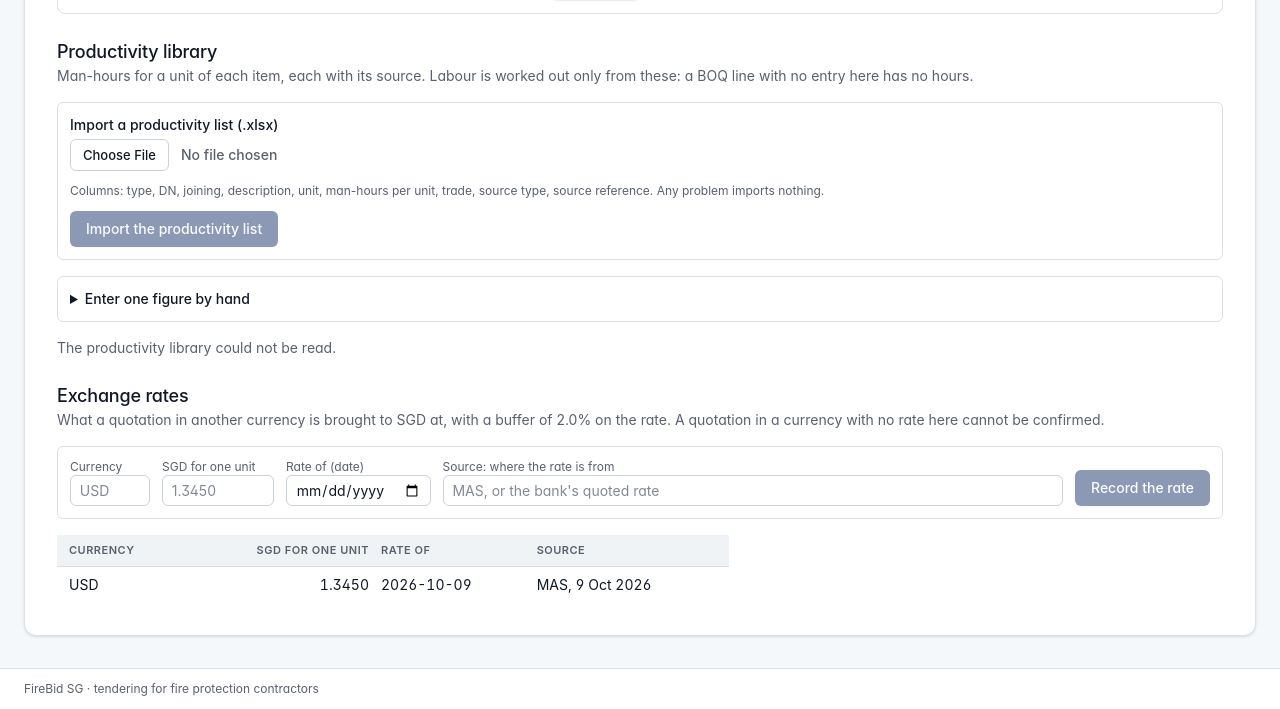
Test: exchange rates › lists each rate with its source and date, and records one with both
(page scrolled)
Expected: the text "USD" shows "MAS, 9 Oct 2026", [537,576,652,593]
Expected: the element "Exchange rates" shows "a buffer of 2.0% on the rate", [443,411,667,428]
Step 1. Type "eur" into the field labelled "Currency" → (110, 491), box [70,475,150,506]
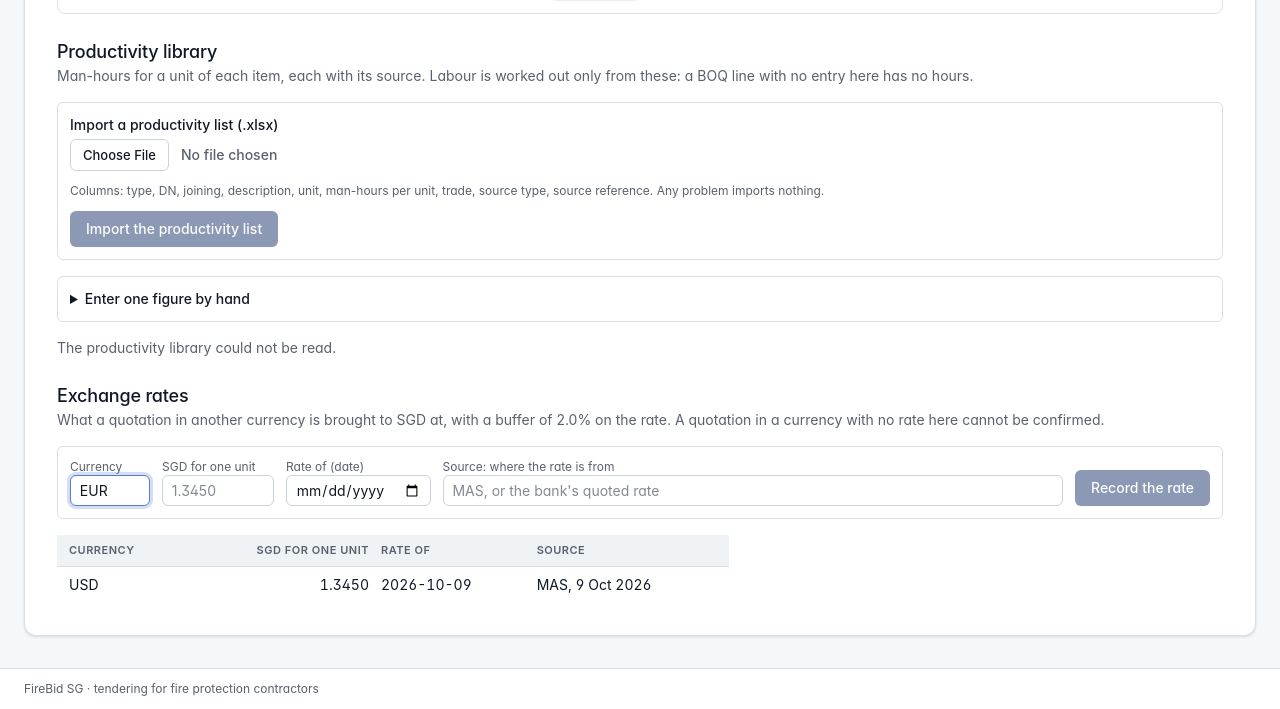
Step 2. Type "1.46" into the field labelled "SGD for one unit" → (218, 491), box [162,475,274,506]
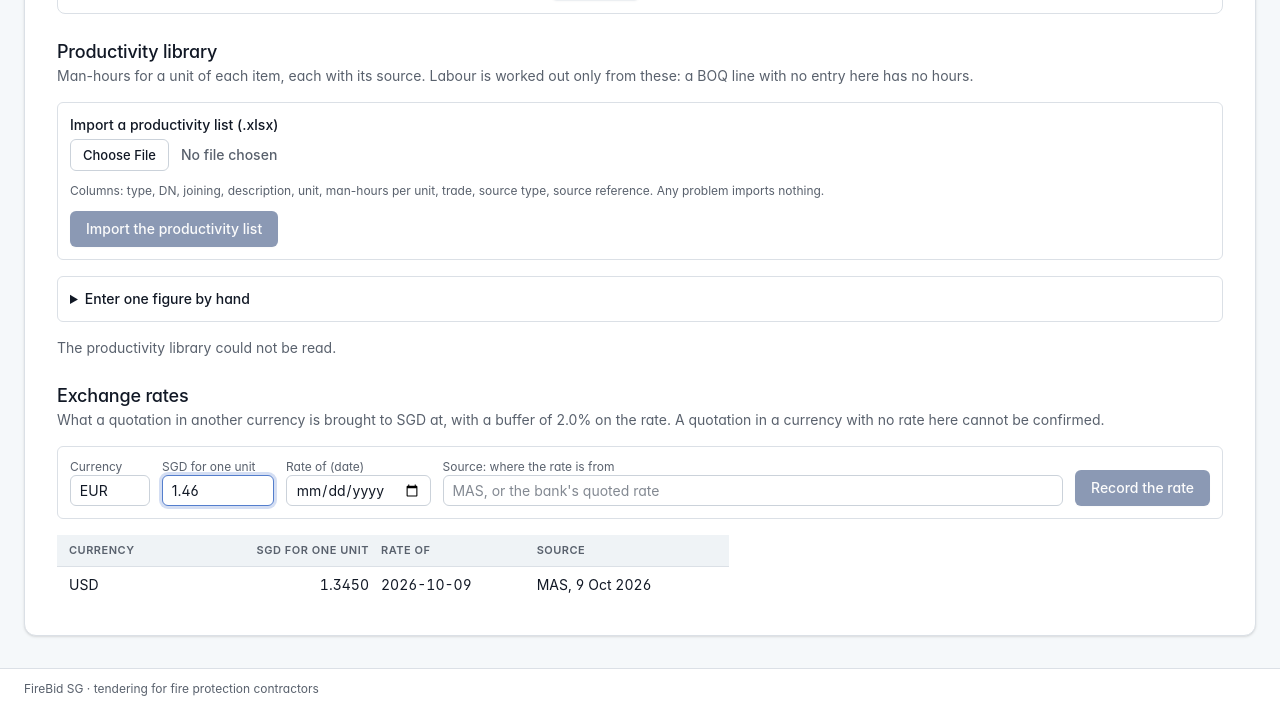
Expected: the button "Record the rate" is disabled, [1075,470,1210,506]
Step 3. Type "2026-10-10" into the date field named "Rate date" → (358, 491), box [286,475,431,506]
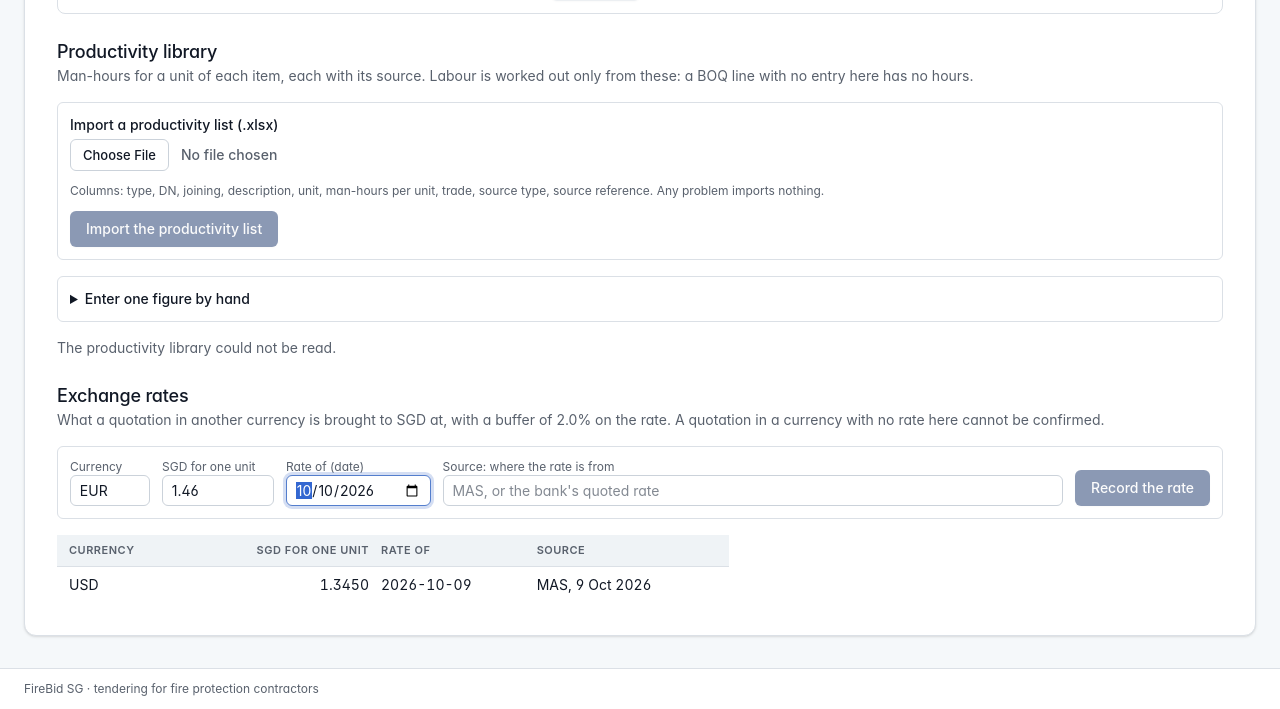
Step 4. Type "bank quote" into the field named "Source of the rate" → (753, 491), box [443,475,1063,506]
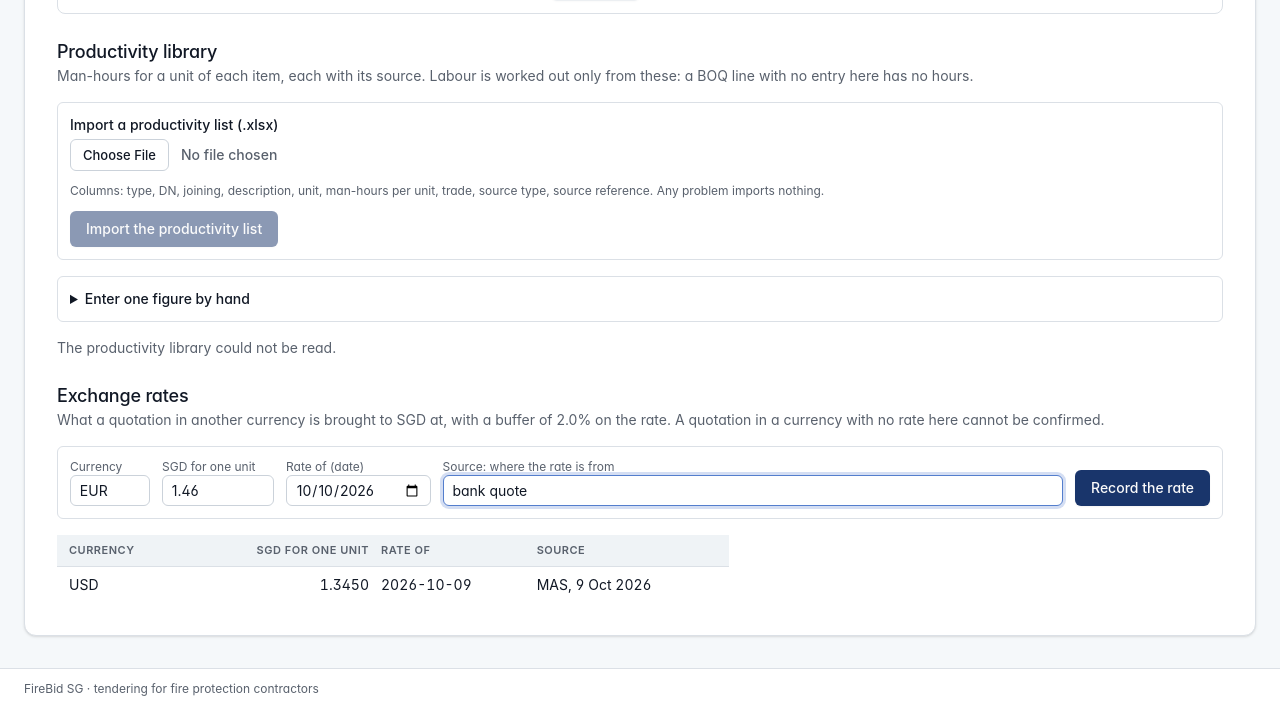
Step 5. Click the button "Record the rate" → (1142, 488), box [1075,470,1210,506]
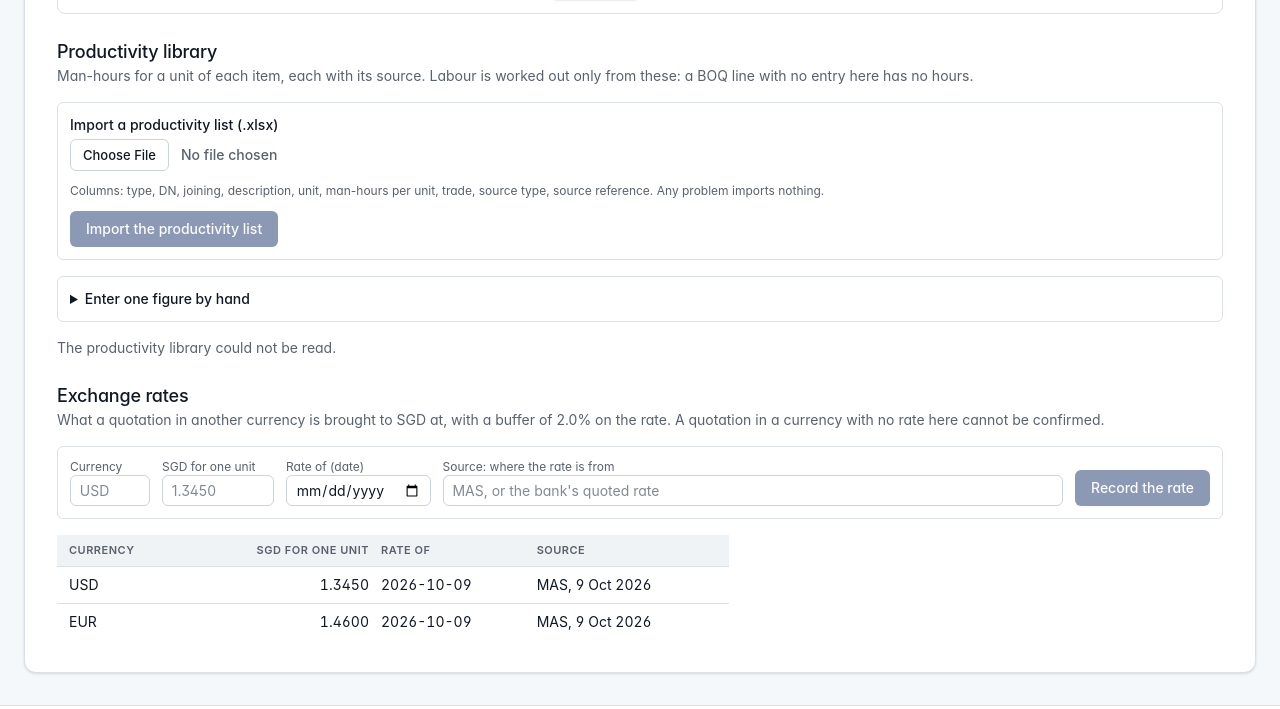
Now the text "EUR" is shown, box [57,604,192,640]
